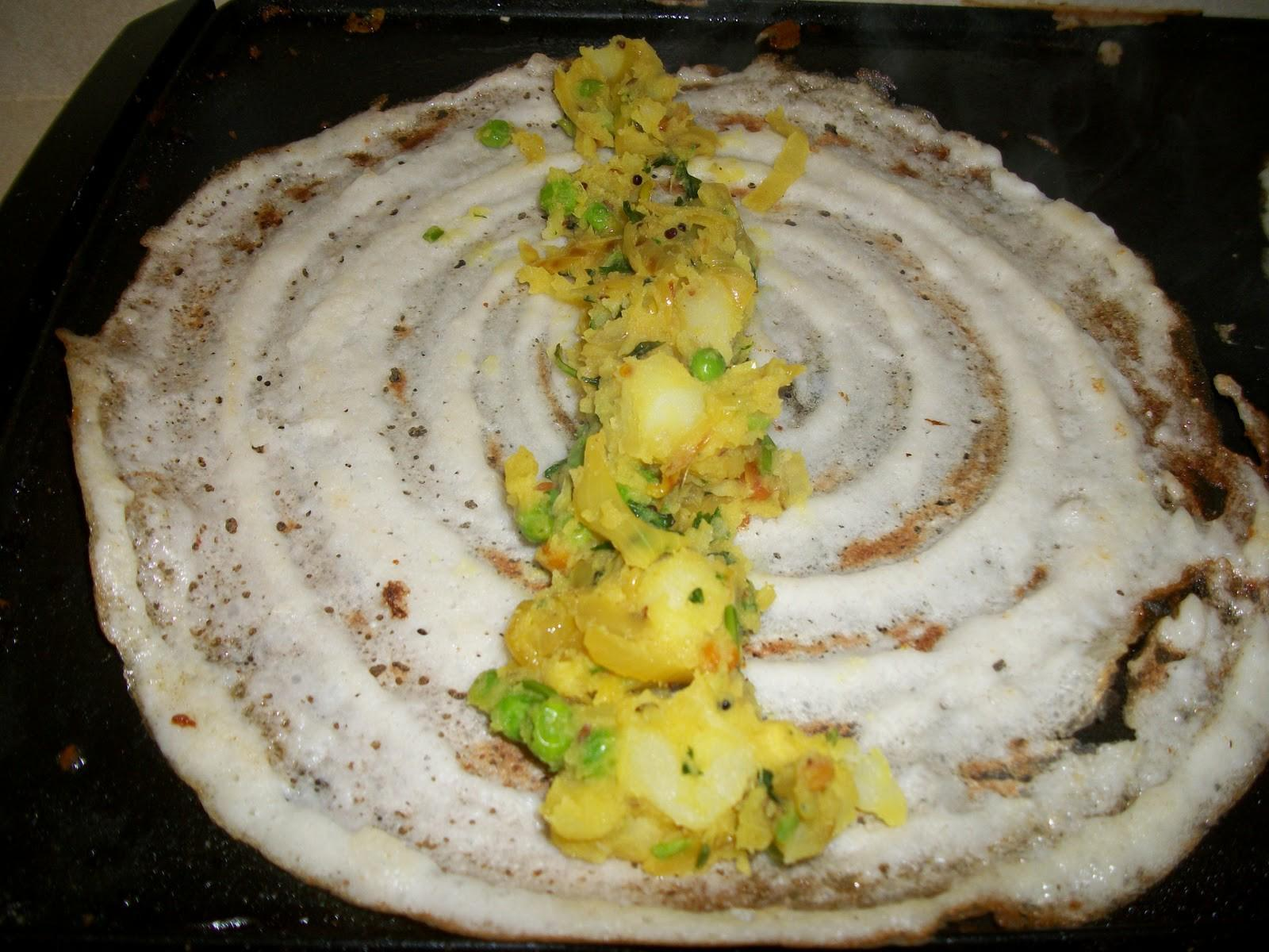Dosa: (70, 36, 1269, 944)
